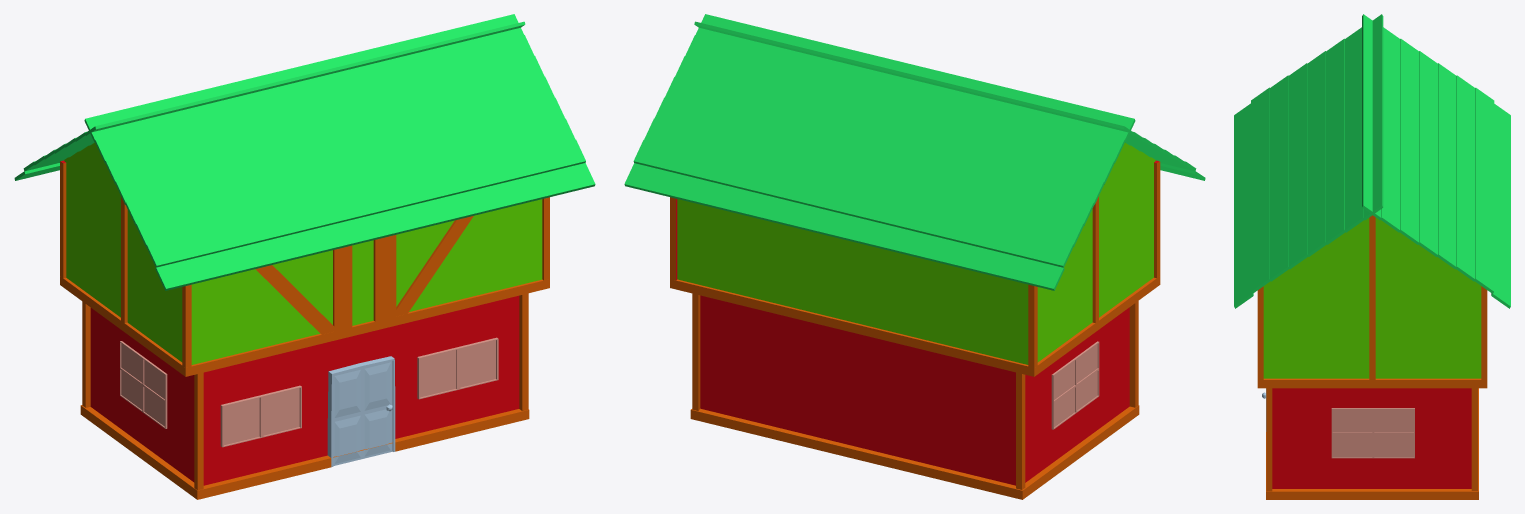
Rendered from building#1.fbx.
3 renders of one model, left to right at view 1: azimuth 30°, elevation 25°; view 2: azimuth 150°, elevation 25°; view 3: azimuth 270°, elevation 25°, orthographic. The views are drawn at different scales.
Visible parts, largest first — view 1: Building Main, Roof, Door, Roof.001, Window_Rectangle.001, Window_Rectangle, Window_square; view 2: Building Main, Roof.001, Roof, Window_square; view 3: Building Main, Roof, Roof.001, Window_Square.
Part boxes in pixels (left/top/right/bottom): Building Main: left=60, top=142, right=549, bottom=499; Roof: left=84, top=14, right=595, bottom=290; Door: left=327, top=356, right=395, bottom=467; Roof.001: left=14, top=21, right=525, bottom=180; Window_Rectangle.001: left=417, top=337, right=498, bottom=399; Window_Rectangle: left=220, top=385, right=301, bottom=447; Window_square: left=120, top=341, right=167, bottom=428; Building Main: left=670, top=142, right=1160, bottom=499; Roof.001: left=624, top=14, right=1135, bottom=290; Roof: left=694, top=21, right=1205, bottom=180; Window_square: left=1051, top=341, right=1099, bottom=429; Building Main: left=1257, top=215, right=1487, bottom=499; Roof: left=1234, top=14, right=1383, bottom=308; Roof.001: left=1362, top=14, right=1510, bottom=308; Window_Square: left=1331, top=408, right=1414, bottom=458.
Size of the model in its own units: 689 by 531 by 421.
